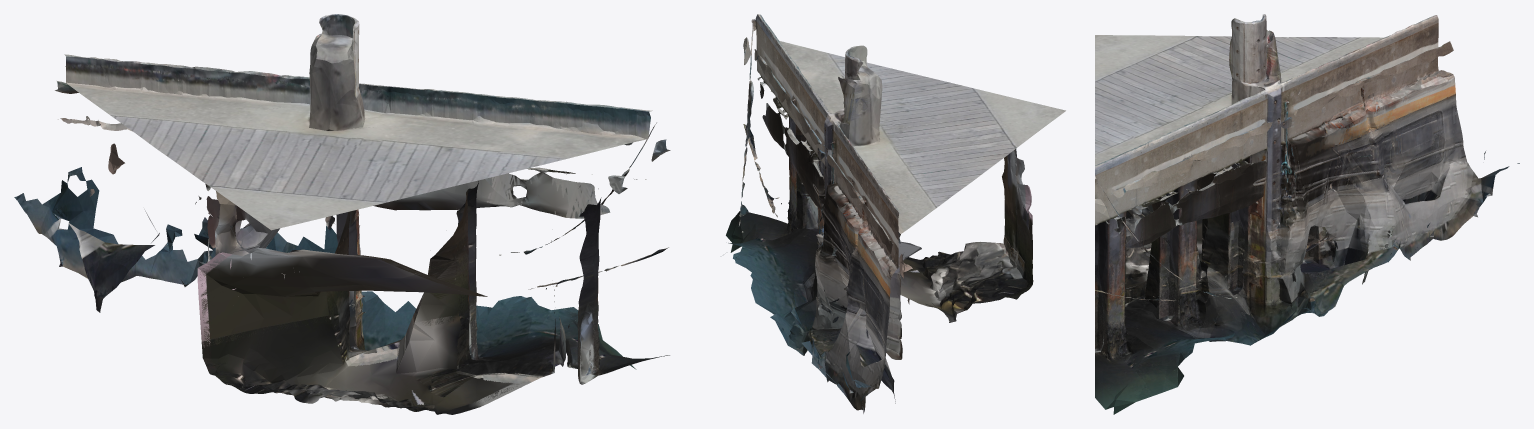
3 renders of one model, left to right at view 1: azimuth 30°, elevation 25°; view 2: azimuth 150°, elevation 25°; view 3: azimuth 270°, elevation 25°, orthographic. The views are drawn at different scales.
Bounding box in the file's own units: 6.17 × 5.21 × 6.61.
Materials: 4 (4 with a texture image).
